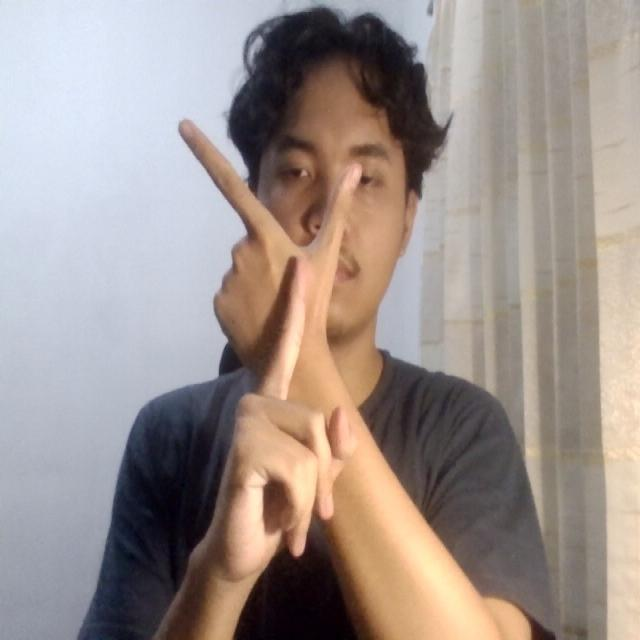No: (144, 102, 405, 574)
